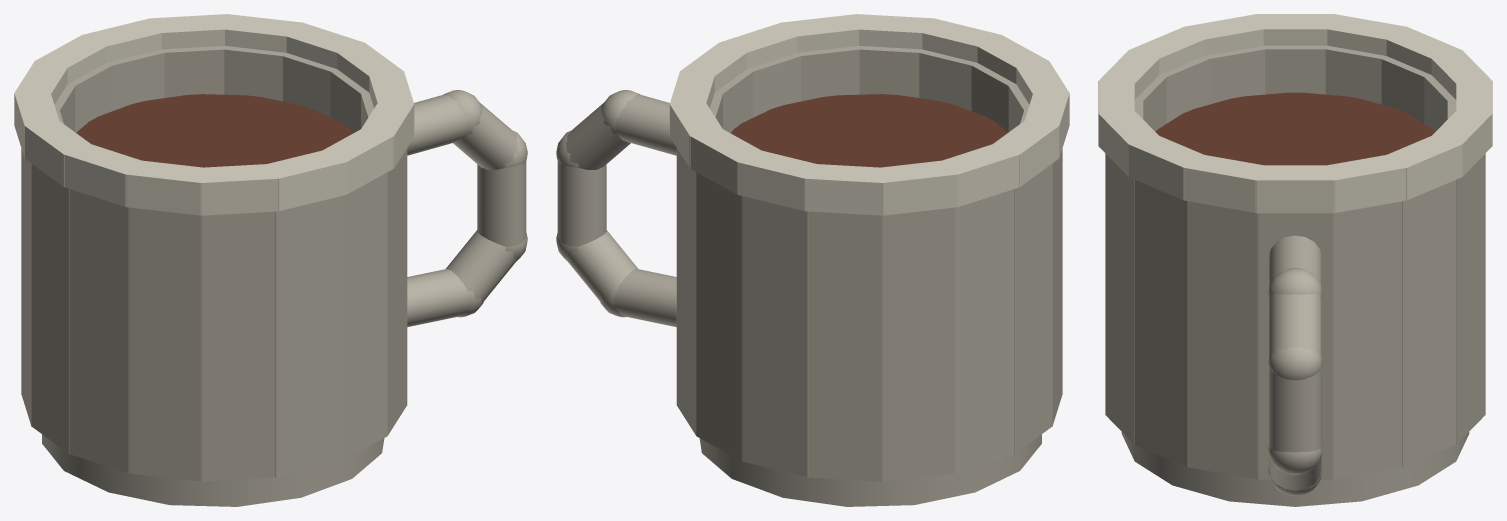
Rendered from CMU3DRMCCoffeeCupFilledDrinksExtraCloud.glb.
3 renders of one model, left to right at view 1: azimuth 30°, elevation 25°; view 2: azimuth 150°, elevation 25°; view 3: azimuth 270°, elevation 25°, orthographic.
Parts seen in each view (by area): view 1: ceramic cup wall 11, ceramic cup wall 10, ceramic cup wall 12, ceramic cup wall 09, level coffee meniscus, ceramic cup wall 13, ceramic cup wall 08, thick ceramic base, ceramic cup wall 14, rounded mouth rim 10, ceramic handle segment 2, rounded mouth rim 11 (+28 smaller); view 2: ceramic cup wall 05, ceramic cup wall 06, ceramic cup wall 04, ceramic cup wall 07, level coffee meniscus, ceramic cup wall 03, ceramic cup wall 08, thick ceramic base, ceramic cup wall 02, rounded mouth rim 06, ceramic handle segment 2, rounded mouth rim 05 (+28 smaller); view 3: ceramic cup wall 01, ceramic cup wall 15, level coffee meniscus, ceramic cup wall 02, ceramic cup wall 14, ceramic cup wall 00, ceramic cup wall 03, ceramic cup wall 13, thick ceramic base, ceramic handle segment 2, rounded mouth rim 00, rounded mouth rim 01 (+27 smaller).
Part boxes in pixels (bbox=[...]): ceramic cup wall 11: bbox=[201, 211, 276, 481]; ceramic cup wall 10: bbox=[128, 207, 202, 481]; ceramic cup wall 12: bbox=[275, 196, 342, 477]; ceramic cup wall 09: bbox=[68, 189, 129, 472]; level coffee meniscus: bbox=[76, 94, 353, 167]; ceramic cup wall 13: bbox=[341, 172, 387, 461]; ceramic cup wall 08: bbox=[31, 163, 69, 453]; thick ceramic base: bbox=[42, 434, 384, 506]; ceramic cup wall 14: bbox=[387, 149, 406, 435]; rounded mouth rim 10: bbox=[125, 160, 210, 215]; ceramic handle segment 2: bbox=[477, 162, 526, 246]; rounded mouth rim 11: bbox=[200, 164, 279, 215]; ceramic cup wall 05: bbox=[807, 211, 882, 481]; ceramic cup wall 06: bbox=[881, 207, 955, 481]; ceramic cup wall 04: bbox=[741, 196, 808, 477]; ceramic cup wall 07: bbox=[954, 189, 1015, 472]; level coffee meniscus: bbox=[730, 94, 1007, 167]; ceramic cup wall 03: bbox=[696, 172, 742, 461]; ceramic cup wall 08: bbox=[1014, 163, 1052, 453]; thick ceramic base: bbox=[699, 434, 1041, 506]; ceramic cup wall 02: bbox=[677, 149, 696, 435]; rounded mouth rim 06: bbox=[873, 159, 958, 215]; ceramic handle segment 2: bbox=[557, 162, 606, 246]; rounded mouth rim 05: bbox=[804, 164, 886, 215]; ceramic cup wall 01: bbox=[1332, 201, 1403, 479]; ceramic cup wall 15: bbox=[1187, 201, 1258, 479]; level coffee meniscus: bbox=[1155, 92, 1435, 165]; ceramic cup wall 02: bbox=[1402, 180, 1456, 467]; ceramic cup wall 14: bbox=[1134, 180, 1188, 467]; ceramic cup wall 00: bbox=[1257, 213, 1333, 479]; ceramic cup wall 03: bbox=[1456, 154, 1485, 444]; ceramic cup wall 13: bbox=[1105, 154, 1134, 444]; thick ceramic base: bbox=[1121, 432, 1469, 506]; ceramic handle segment 2: bbox=[1269, 367, 1321, 452]; rounded mouth rim 00: bbox=[1255, 165, 1335, 213]; rounded mouth rim 01: bbox=[1320, 153, 1407, 213].
Bounding box in the file's own units: 0.3541 × 0.2365 × 0.2513.
